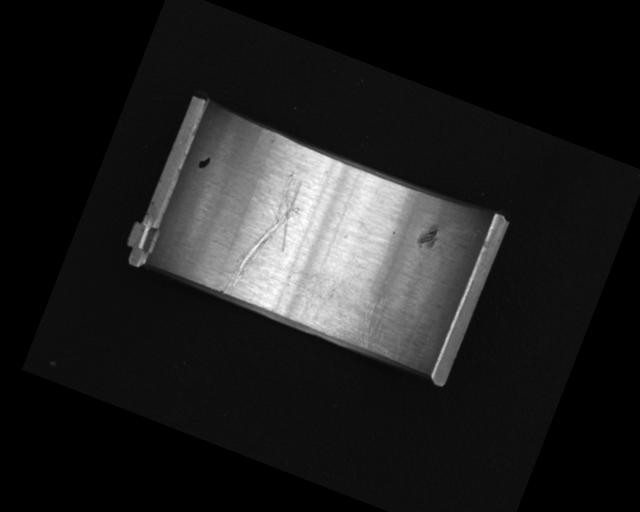blot: (195, 152, 213, 171)
bruise: (415, 222, 442, 252)
nick: (218, 162, 313, 308)
scratch: (295, 255, 416, 359)
